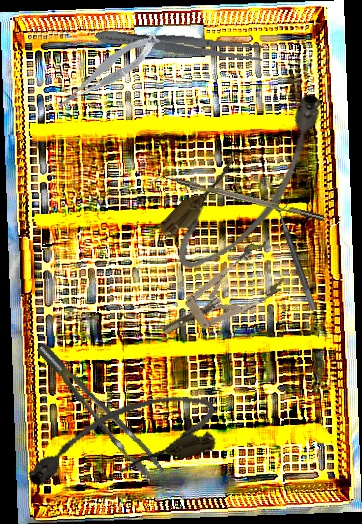Cannula: (150, 80, 354, 284), (16, 383, 225, 499)
Chopper: (148, 169, 326, 230)
Dressing Forceps: (94, 25, 265, 64)
Fixation Ring: (272, 197, 327, 312)
Micro Scissor: (47, 28, 168, 114)
Speculum: (148, 236, 292, 355)
Tissue Forceps: (36, 329, 165, 491)
